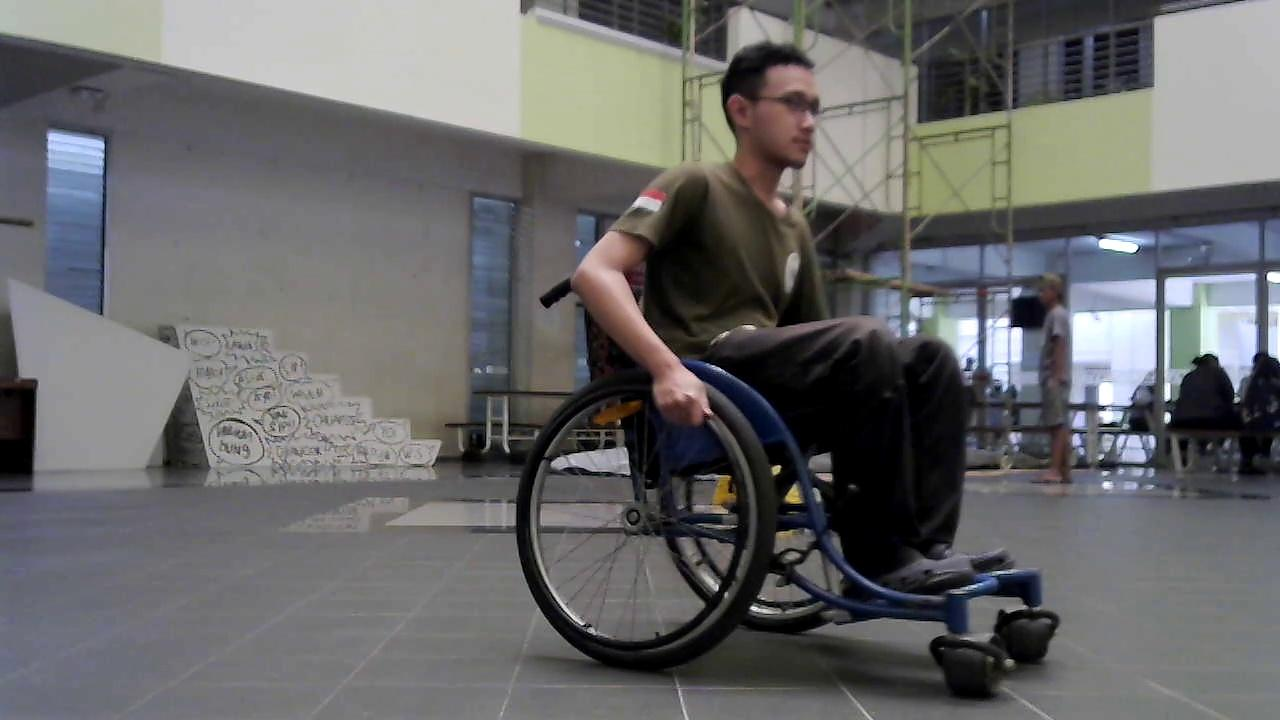person: (538, 42, 1004, 605), (1168, 351, 1242, 477), (1238, 353, 1280, 471)
wheelchair: (485, 234, 1069, 709)
